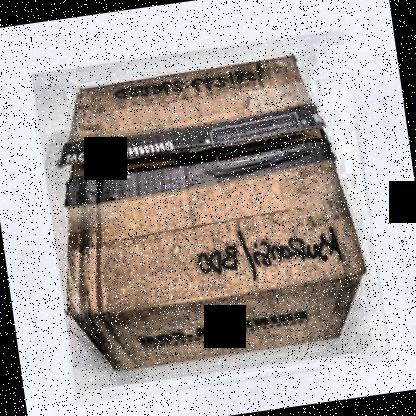no defect parcel: (20, 28, 392, 399)
